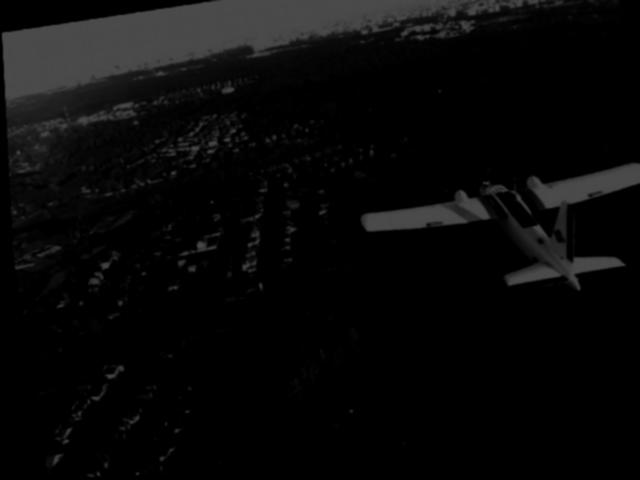hedef: (349, 151, 640, 331)
